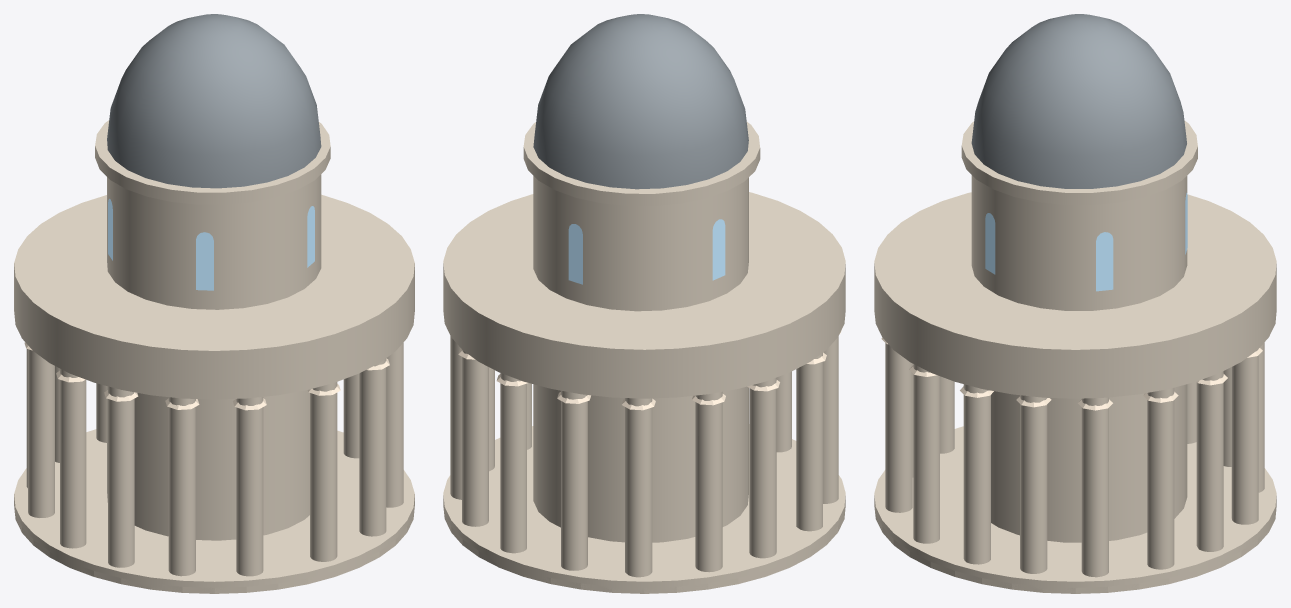
3 views of the same model, side by side, from view 1: azimuth 30°, elevation 25°; view 2: azimuth 150°, elevation 25°; view 3: azimuth 270°, elevation 25° (orthographic).
Parts seen in each view (by area): view 1: stone, roof, window, trim; view 2: stone, roof, window, trim; view 3: stone, roof, window, trim.
Boxes of the visible parts, x1=… form: stone: x1=14, y1=120, x2=414, y2=593; roof: x1=107, y1=14, x2=321, y2=188; window: x1=108, y1=198, x2=314, y2=290; trim: x1=24, y1=342, x2=389, y2=410; stone: x1=443, y1=122, x2=845, y2=593; roof: x1=533, y1=14, x2=748, y2=189; window: x1=568, y1=219, x2=725, y2=284; trim: x1=458, y1=330, x2=841, y2=410; stone: x1=874, y1=120, x2=1276, y2=593; roof: x1=971, y1=14, x2=1186, y2=188; window: x1=985, y1=193, x2=1187, y2=291; trim: x1=881, y1=338, x2=1262, y2=410.
Bounding box in the file's own units: 14.93 × 20 × 14.95.
